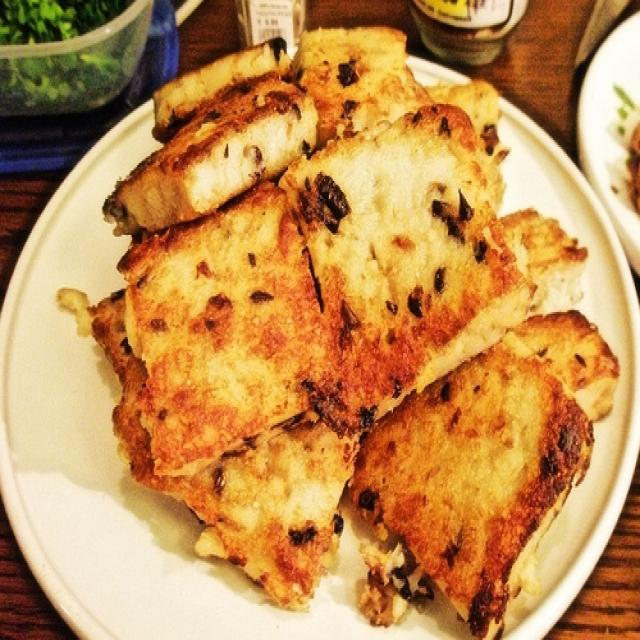蛋糕甜品: (40, 25, 608, 613)
